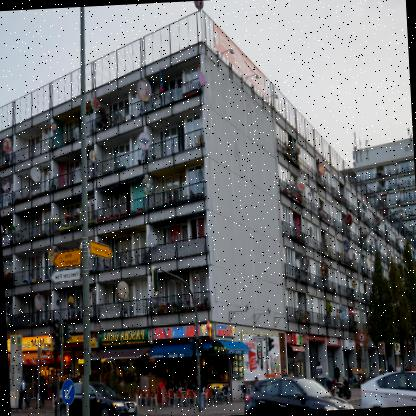Car: (51, 372, 137, 415), (242, 376, 336, 414), (358, 370, 415, 408)
